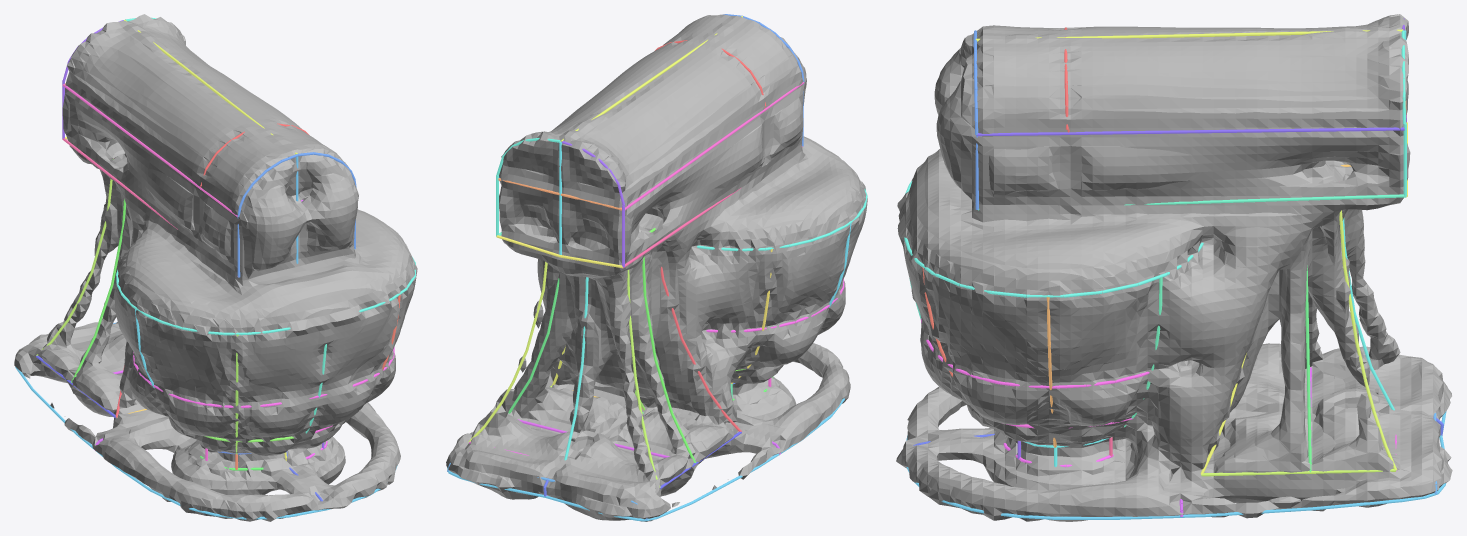
File: t2f_blender.gltf
3 views of the same model, side by side, from view 1: azimuth 30°, elevation 25°; view 2: azimuth 150°, elevation 25°; view 3: azimuth 270°, elevation 25° (orthographic). The views are drawn at different scales.
Bounding box in the file's own units: 0.4717 × 0.634 × 0.6881.
